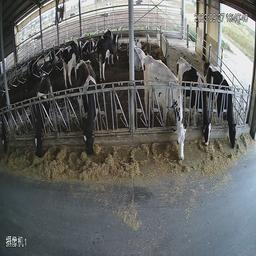cow: (142, 54, 189, 175), (176, 52, 219, 150), (73, 56, 107, 165), (205, 58, 241, 152), (30, 66, 55, 165), (95, 20, 120, 78), (63, 30, 84, 83), (133, 28, 151, 75)
